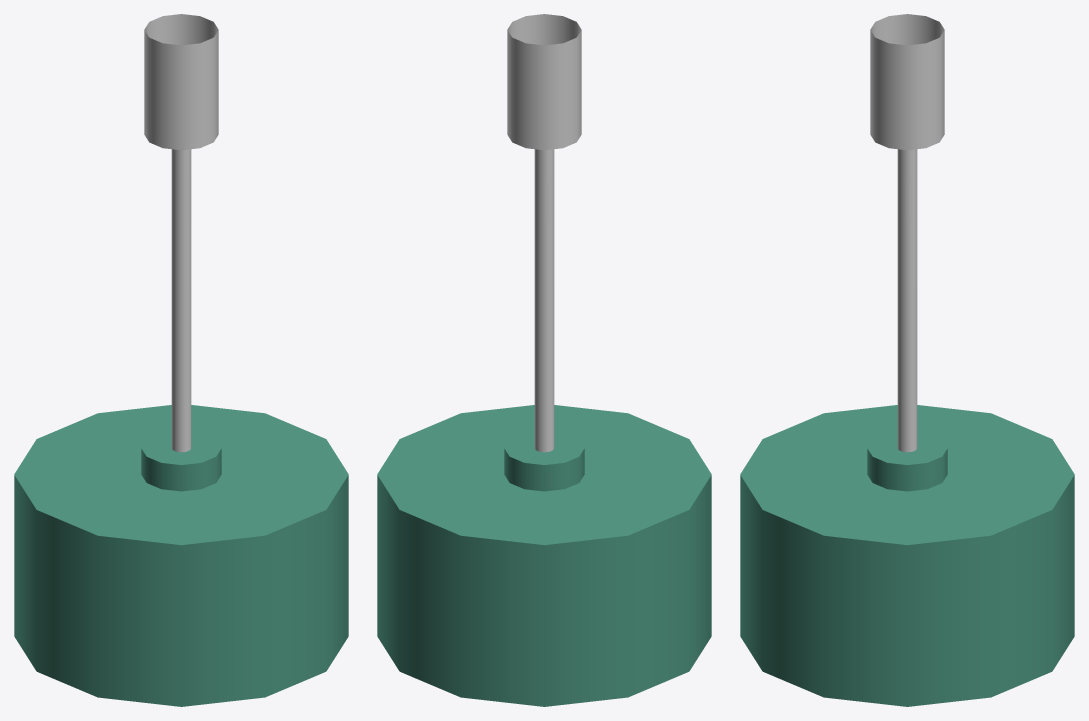
Rendered from Lamp_2.fbx.
3 views of the same model, side by side, from view 1: azimuth 30°, elevation 25°; view 2: azimuth 150°, elevation 25°; view 3: azimuth 270°, elevation 25° (orthographic).
Parts seen in each view (by area): view 1: Lamp_2; view 2: Lamp_2; view 3: Lamp_2.
Part boxes in pixels (bbox=[...]): Lamp_2: bbox=[14, 14, 348, 706]; Lamp_2: bbox=[377, 14, 711, 706]; Lamp_2: bbox=[740, 14, 1074, 706].
Size of the model in its own units: 39 by 78 by 39.
